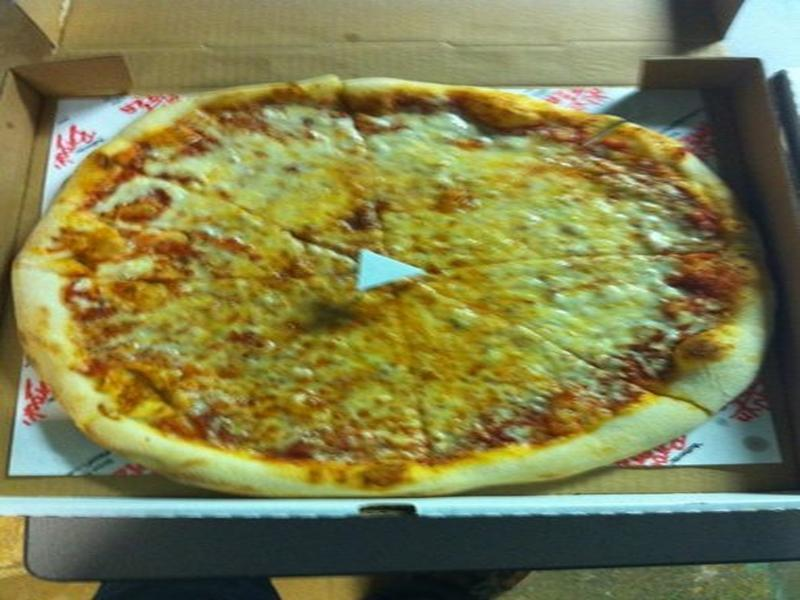pizza: (38, 58, 800, 506)
